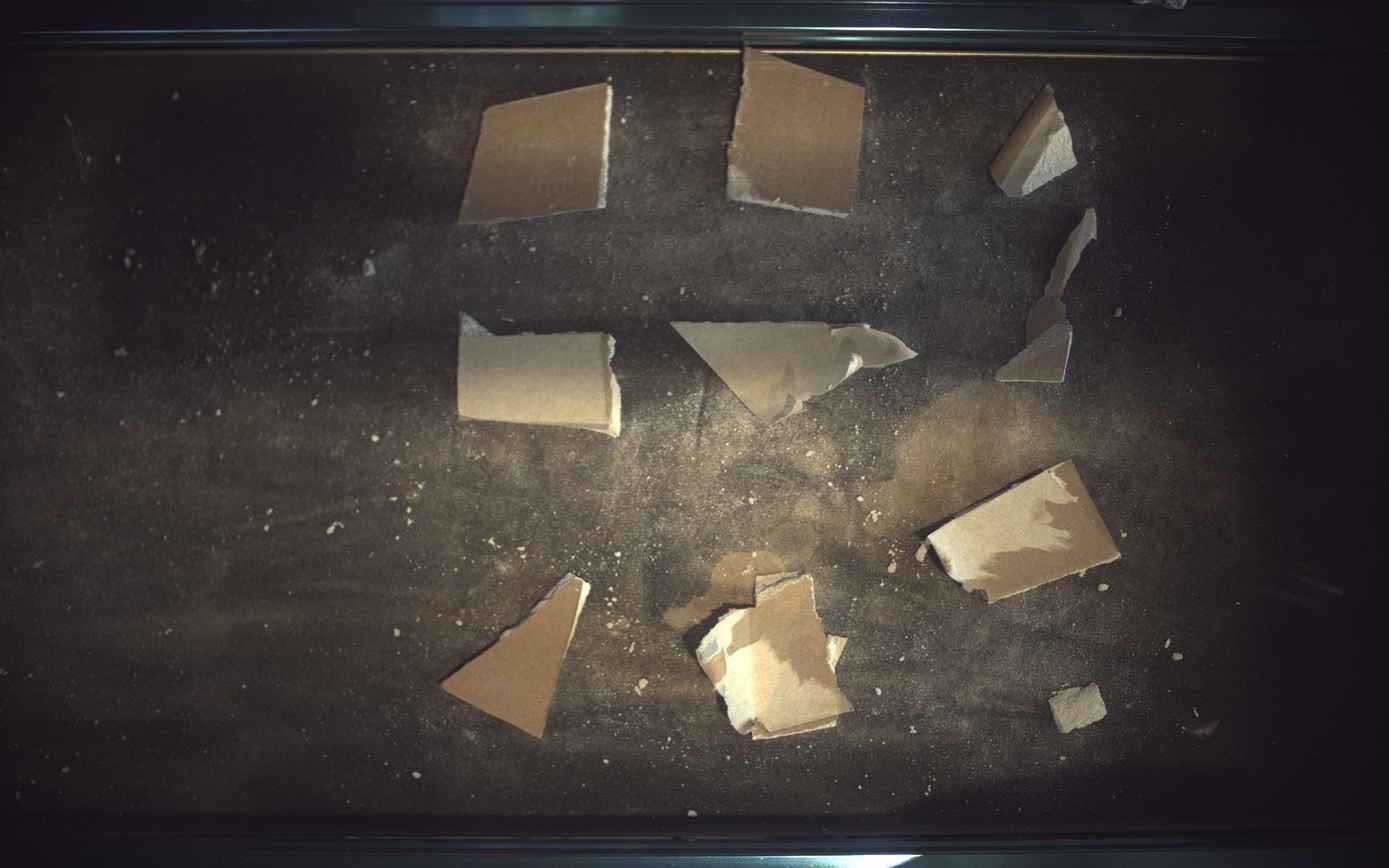gypsum_board: (929, 460, 1123, 603), (697, 573, 854, 741), (673, 321, 918, 424), (441, 574, 591, 739), (729, 46, 866, 216), (459, 82, 613, 223), (457, 312, 621, 437), (998, 208, 1099, 383), (992, 82, 1079, 196), (1052, 684, 1108, 735)
